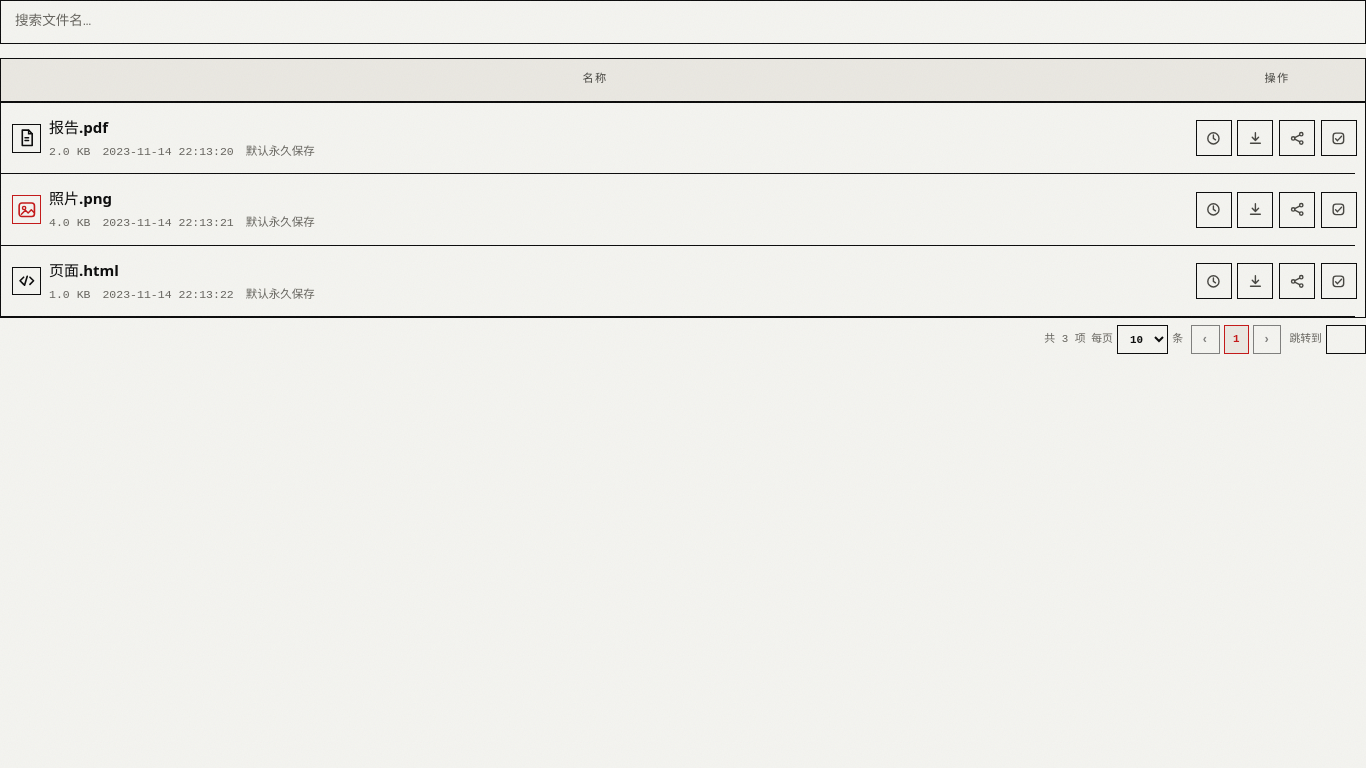
FileList › renders the file rows and a share dialog on demand
Expected: the button "1" is shown, left=1224, top=325, right=1249, bottom=354
What coordinates should you click on to do the following:
click the button named "分享" in the row of "报告.pdf"
I would click on:
 (1297, 138)
Its box is left=1279, top=120, right=1315, bottom=156.
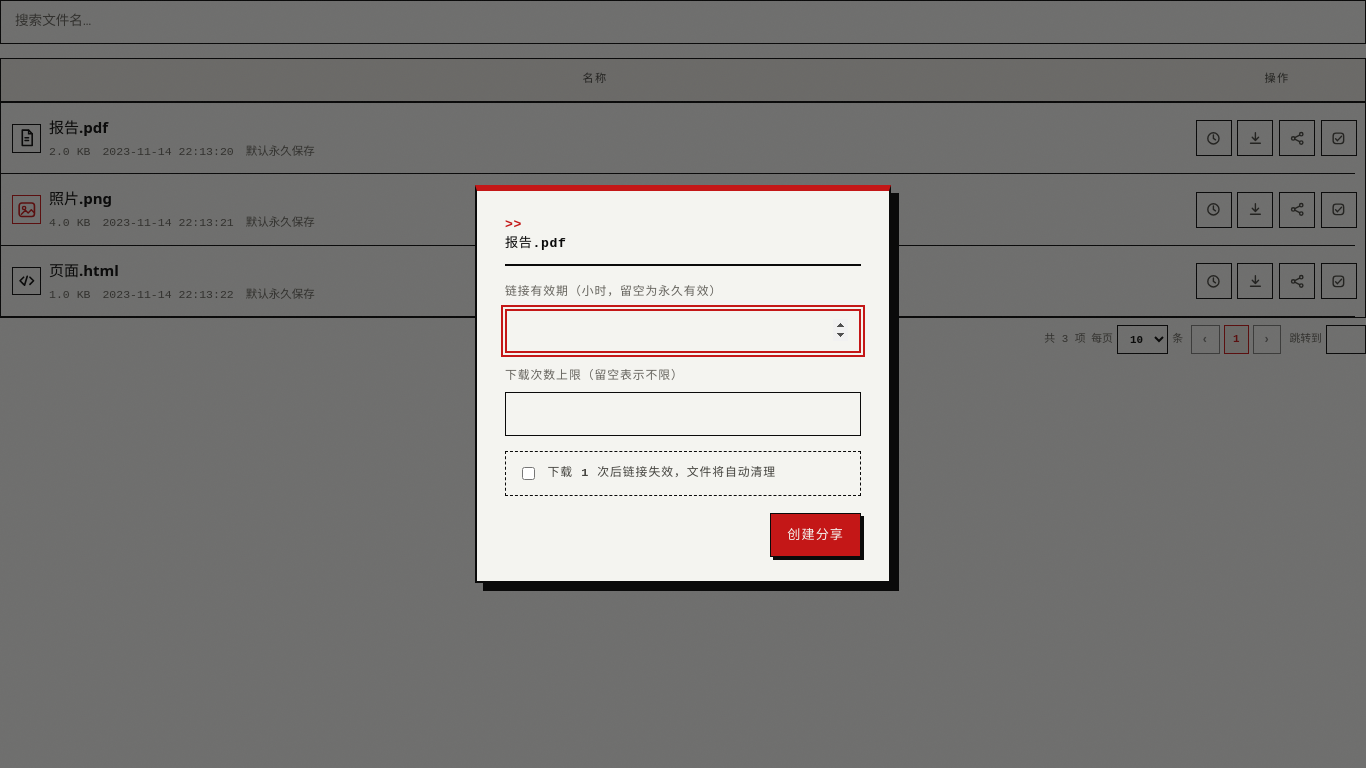
Expected: the dialog with class "dialog" is shown, left=475, top=185, right=891, bottom=584
